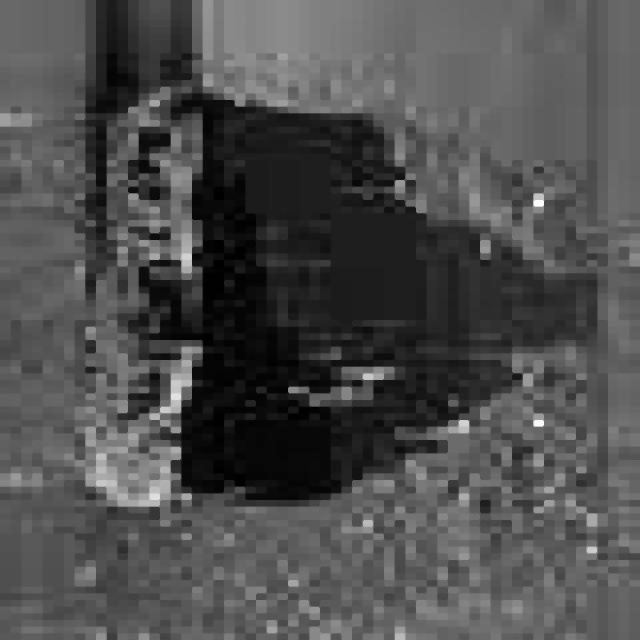Ship: (60, 72, 241, 522)
